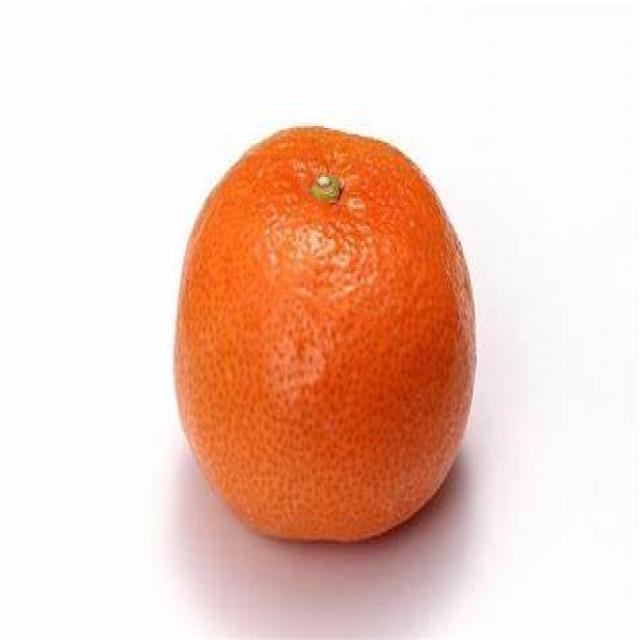Orange: (173, 123, 479, 543)
